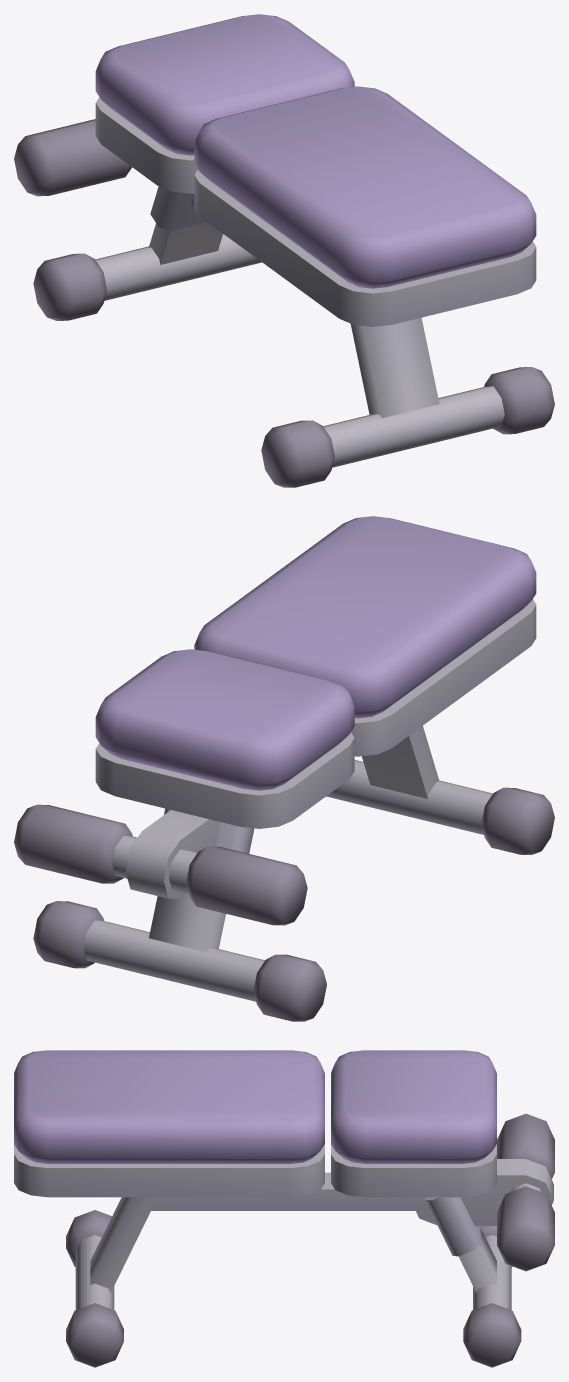
Rendered from fitness-bench-seated-flat.glb.
The picture shows the model from 3 angles, top to bottom: view 1: azimuth 30°, elevation 25°; view 2: azimuth 150°, elevation 25°; view 3: azimuth 270°, elevation 25°; orthographic projection. The views are drawn at different scales.
Parts seen in each view (by area): view 1: fitness-bench-seated-flat; view 2: fitness-bench-seated-flat; view 3: fitness-bench-seated-flat.
Boxes of the visible parts, box(x1,y1,x2,y2) form: fitness-bench-seated-flat: box(14, 14, 554, 487); fitness-bench-seated-flat: box(14, 516, 554, 1021); fitness-bench-seated-flat: box(14, 1050, 554, 1367).
Size of the model in its own units: 0.4451 by 0.4208 by 0.896.
